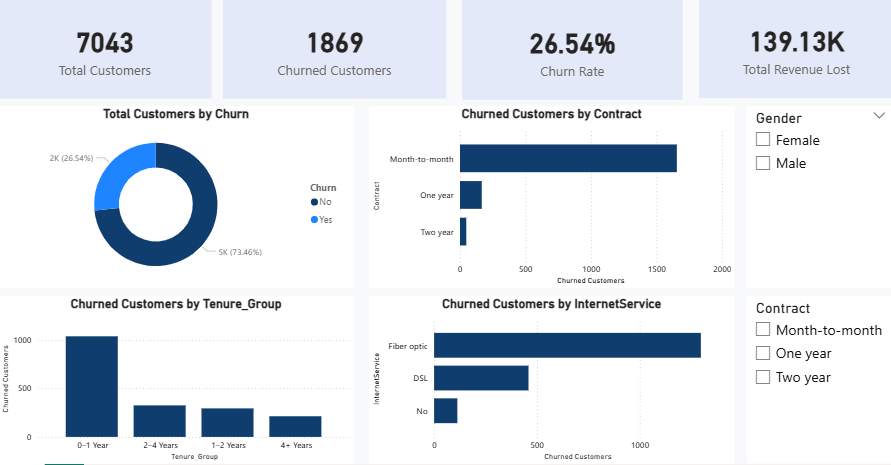

What the dashboard file says about the page in this screenshot:
{"tool":"powerbi","page":{"name":"Page 1","canvas":[1280,720],"ordinal":0},"visuals":[{"type":"card","fields":{"Values":["Telco.Total Customers"]},"box":[0,55.1,305.4,141.9],"z":0},{"type":"card","fields":{"Values":["Telco.Churned Customers"]},"box":[322.1,55.1,318.7,141.9],"z":1000},{"type":"card","fields":{"Values":["Telco.Total Revenue Lost"]},"box":[1001.2,53.8,278.8,142.8],"z":2000},{"type":"card","fields":{"Values":["Telco.Churn Rate"]},"box":[662.5,55.1,315.4,143.5],"z":3000},{"type":"donutChart","fields":{"Y":["Telco.Total Customers"],"Category":["Telco.Churn"]},"box":[0,208.3,509,260.4],"z":4000},{"type":"barChart","fields":{"Category":["Telco.Contract"],"Y":["Telco.Churned Customers"]},"box":[530.7,208.6,522.3,260.3],"z":5000},{"type":"columnChart","fields":{"Y":["Telco.Churned Customers"],"Category":["Telco.Tenure_Group"]},"box":[0,480.6,509,240.3],"z":6000},{"type":"barChart","fields":{"Y":["Telco.Churned Customers"],"Category":["Telco.InternetService"]},"box":[530.7,480.6,522.3,240.3],"z":7000},{"type":"slicer","fields":{"Values":["Telco.gender"]},"box":[1069.7,208.6,210.3,260.3],"z":8000},{"type":"slicer","fields":{"Values":["Telco.Contract"]},"box":[1069.7,480.6,210.3,238.6],"z":9000}]}

Visuals, with their boxes on the page's 1280x720 design canvas (x1, y1, x2, y2). These are canvas units, not pixel positions in the 891x465 screenshot, which may show the page scaled, cropped or inside an application window:
card - Telco.Total Customers: pyautogui.locateOnScreen(0, 55, 305, 197)
card - Telco.Churned Customers: pyautogui.locateOnScreen(322, 55, 641, 197)
card - Telco.Total Revenue Lost: pyautogui.locateOnScreen(1001, 54, 1280, 197)
card - Telco.Churn Rate: pyautogui.locateOnScreen(662, 55, 978, 199)
donutChart - Telco.Total Customers x Telco.Churn: pyautogui.locateOnScreen(0, 208, 509, 469)
barChart - Telco.Contract x Telco.Churned Customers: pyautogui.locateOnScreen(531, 209, 1053, 469)
columnChart - Telco.Churned Customers x Telco.Tenure_Group: pyautogui.locateOnScreen(0, 481, 509, 721)
barChart - Telco.Churned Customers x Telco.InternetService: pyautogui.locateOnScreen(531, 481, 1053, 721)
slicer - Telco.gender: pyautogui.locateOnScreen(1070, 209, 1280, 469)
slicer - Telco.Contract: pyautogui.locateOnScreen(1070, 481, 1280, 719)
